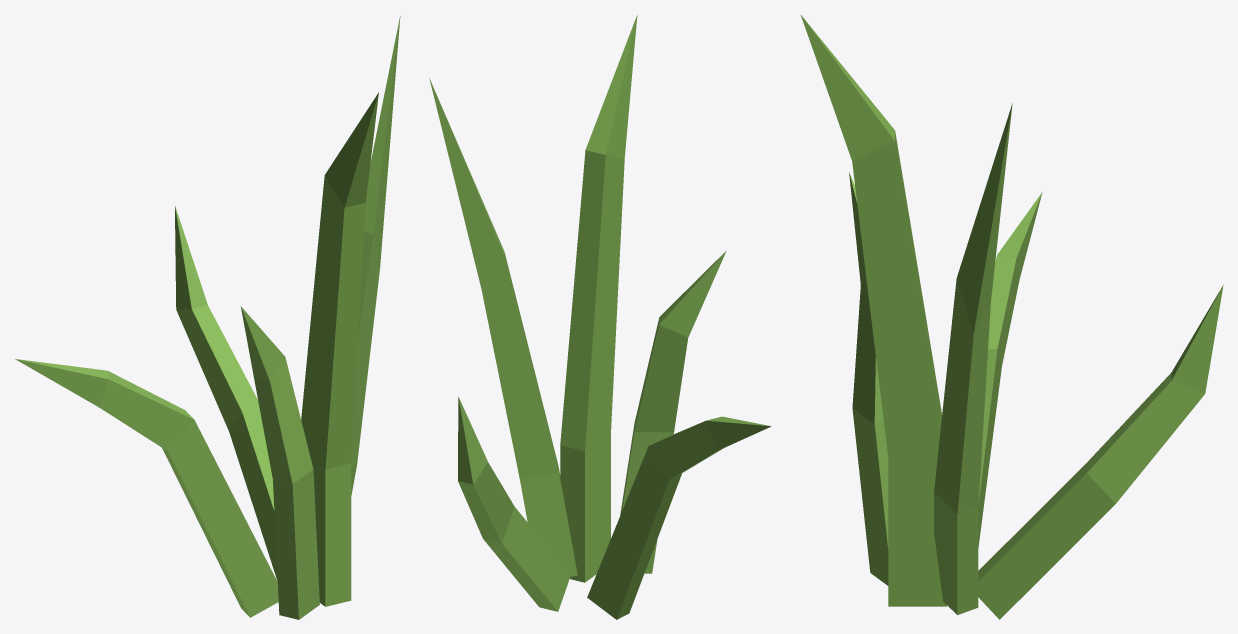
File: Grass_1.fbx
3 renders of one model, left to right at view 1: azimuth 30°, elevation 25°; view 2: azimuth 150°, elevation 25°; view 3: azimuth 270°, elevation 25°, orthographic. The views are drawn at different scales.
Visible parts, largest first — view 1: Plane; view 2: Plane; view 3: Plane.
Part boxes in pixels (box(x1,y1,x2,y2)): Plane: box(15, 16, 400, 619); Plane: box(429, 15, 771, 619); Plane: box(801, 15, 1223, 619).
Size of the model in its own units: 2.38 by 3.43 by 2.17.
